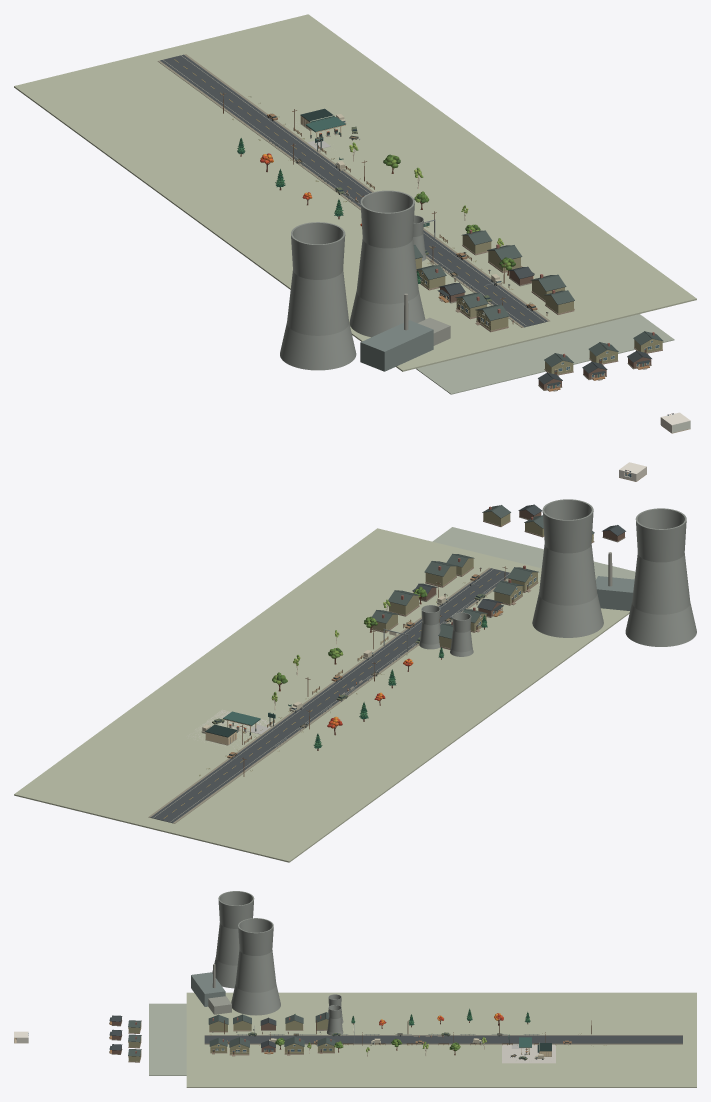
Rendered from road_and_station.glb.
The picture shows the model from 3 angles, top to bottom: view 1: azimuth 30°, elevation 25°; view 2: azimuth 150°, elevation 25°; view 3: azimuth 270°, elevation 25°; orthographic projection. The views are drawn at different scales.
Visible parts, largest first — view 1: Road country terrain, Cooling tower exterior.002, Cooling tower exterior.003, Distant hill under plant, Industrial block.001, Asphalt bed.008, Asphalt bed.009, Asphalt bed.007, Asphalt bed.006, Asphalt bed.005, Asphalt bed, Asphalt bed.001 (+1 smaller); view 2: Road country terrain, Cooling tower exterior.002, Cooling tower exterior.003, Distant hill under plant, Industrial block.001, Cooling tower exterior, Cooling tower exterior.001, Asphalt bed.009, Asphalt bed.008, Asphalt bed.007, Asphalt bed.003, Asphalt bed.005 (+3 smaller); view 3: Road country terrain, Cooling tower exterior.003, Distant hill under plant, Cooling tower exterior.002, Industrial block.001, Station forecourt, Asphalt bed.008, Asphalt bed.009, Cooling tower exterior.001, Asphalt bed.007, Asphalt bed.003, Industrial annex.001 (+3 smaller).
Part boxes in pixels (box(x1,y1,x2,y2)): Road country terrain: box(14, 14, 696, 371); Cooling tower exterior.002: box(280, 222, 356, 370); Cooling tower exterior.003: box(349, 190, 425, 337); Distant hill under plant: box(416, 314, 674, 394); Industrial block.001: box(360, 320, 433, 371); Asphalt bed.008: box(196, 81, 255, 113); Asphalt bed.009: box(160, 54, 219, 86); Asphalt bed.007: box(233, 108, 292, 139); Asphalt bed.006: box(270, 134, 328, 166); Asphalt bed.005: box(306, 161, 365, 192); Asphalt bed: box(490, 294, 547, 327); Asphalt bed.001: box(455, 268, 510, 299); Road country terrain: box(14, 528, 629, 862); Cooling tower exterior.002: box(625, 508, 696, 646); Cooling tower exterior.003: box(532, 499, 603, 637); Distant hill under plant: box(432, 527, 635, 579); Industrial block.001: box(595, 576, 634, 610); Cooling tower exterior: box(450, 612, 473, 656); Cooling tower exterior.001: box(419, 605, 440, 649); Asphalt bed.009: box(150, 792, 206, 823); Asphalt bed.008: box(185, 767, 240, 797); Asphalt bed.007: box(219, 742, 274, 772); Asphalt bed.003: box(355, 643, 410, 672); Asphalt bed.005: box(287, 693, 339, 722); Road country terrain: box(186, 992, 696, 1087); Cooling tower exterior.003: box(231, 918, 280, 1015); Distant hill under plant: box(149, 1003, 186, 1075); Cooling tower exterior.002: box(212, 891, 254, 988); Industrial block.001: box(191, 972, 225, 1006); Station forecourt: box(502, 1044, 555, 1063); Asphalt bed.008: box(587, 1035, 635, 1043); Asphalt bed.009: box(635, 1035, 682, 1043); Cooling tower exterior.001: box(327, 1005, 343, 1035); Asphalt bed.007: box(539, 1035, 587, 1043); Asphalt bed.003: box(348, 1035, 395, 1043); Industrial annex.001: box(208, 996, 231, 1014).
Size of the model in its own units: 142 by 46.75 by 343.
